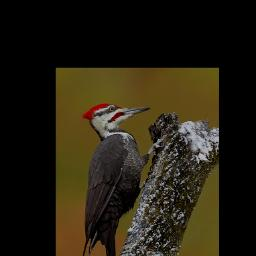Woodpecker: (81, 103, 166, 256)
